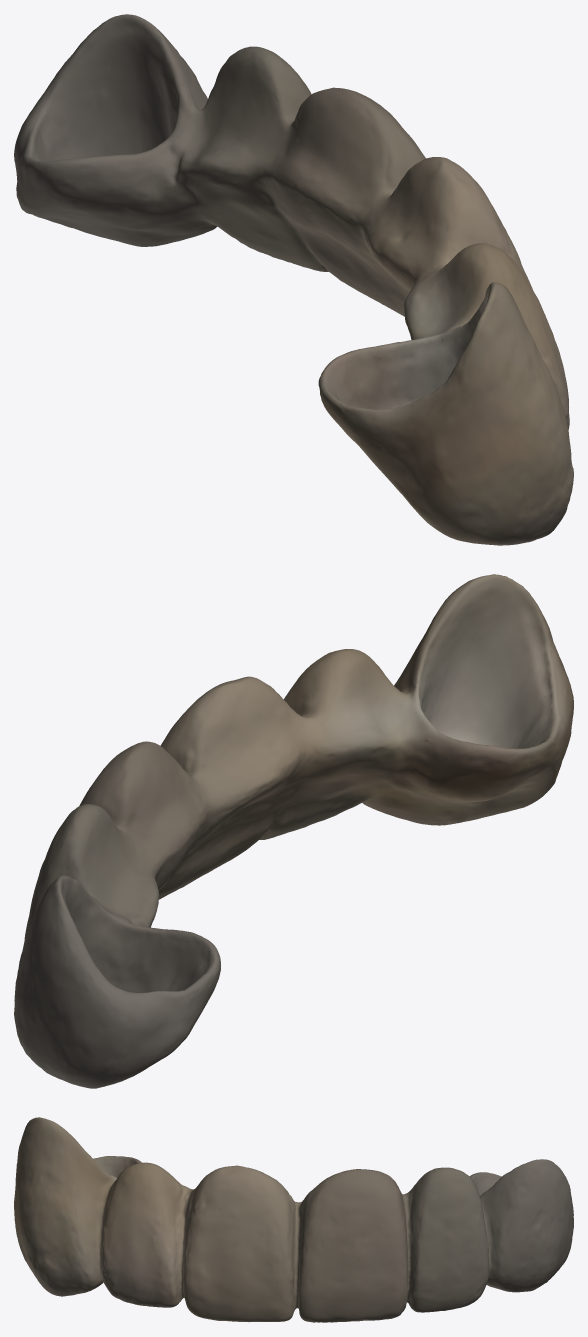
File: zircon.glb
3 renders of one model, top to bottom at view 1: azimuth 30°, elevation 25°; view 2: azimuth 150°, elevation 25°; view 3: azimuth 270°, elevation 25°, orthographic. The views are drawn at different scales.
Parts seen in each view (by area): view 1: zircon bnridge LowerJawScan; view 2: zircon bnridge LowerJawScan; view 3: zircon bnridge LowerJawScan.
Boxes of the visible parts, box(x1,y1,x2,y2) form: zircon bnridge LowerJawScan: box(14, 14, 573, 545); zircon bnridge LowerJawScan: box(14, 574, 573, 1088); zircon bnridge LowerJawScan: box(14, 1117, 573, 1322).
Size of the model in its own units: 15.27 by 12.42 by 39.55.
